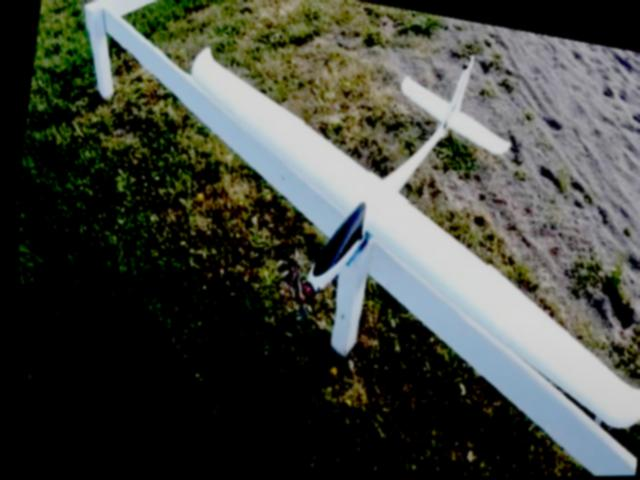iha: (127, 1, 640, 436)
